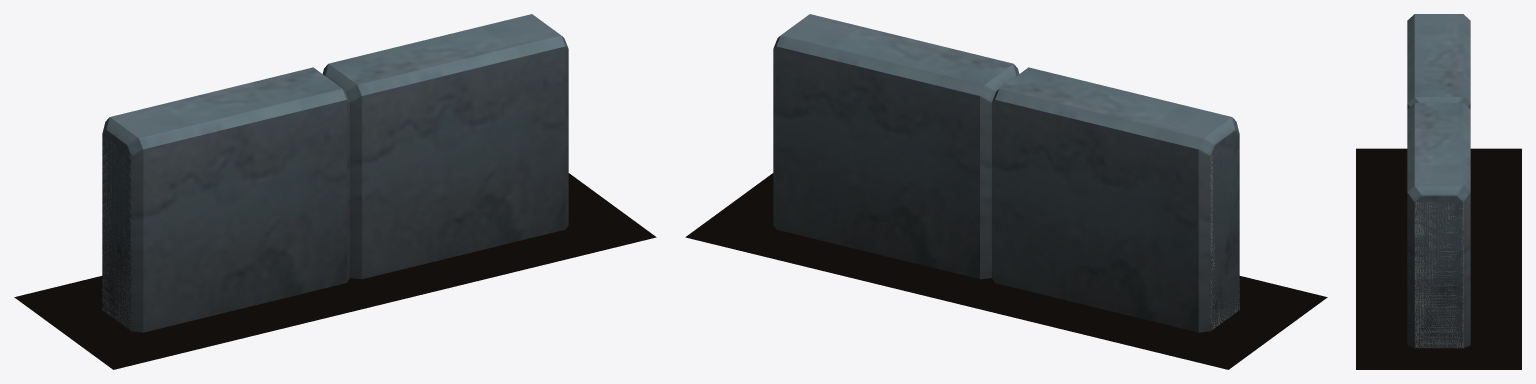
The model's file is 2x1_stone_wall.FBX.
3 views of the same model, side by side, from view 1: azimuth 30°, elevation 25°; view 2: azimuth 150°, elevation 25°; view 3: azimuth 270°, elevation 25° (orthographic). The views are drawn at different scales.
Parts seen in each view (by area): view 1: 2x1_stone_wall, 2x1_stone_wall_soft_shadow, 2x1_stone_wall_shadow_caster; view 2: 2x1_stone_wall, 2x1_stone_wall_soft_shadow; view 3: 2x1_stone_wall_soft_shadow, 2x1_stone_wall, 2x1_stone_wall_shadow_caster.
Boxes of the visible parts, <box> form: 2x1_stone_wall: <box>102,14,568,332</box>; 2x1_stone_wall_soft_shadow: <box>14,173,656,369</box>; 2x1_stone_wall_shadow_caster: <box>102,137,131,330</box>; 2x1_stone_wall: <box>773,14,1239,332</box>; 2x1_stone_wall_soft_shadow: <box>685,173,1327,369</box>; 2x1_stone_wall_soft_shadow: <box>1356,148,1521,369</box>; 2x1_stone_wall: <box>1407,14,1470,348</box>; 2x1_stone_wall_shadow_caster: <box>1414,202,1463,348</box>.
Size of the model in its own units: 2485 by 850 by 787.
